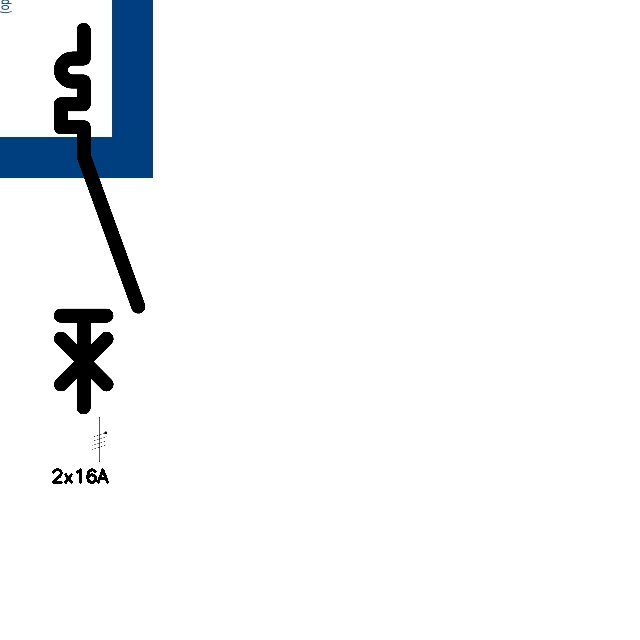interruptor_termomagnetico: (51, 20, 148, 417)
